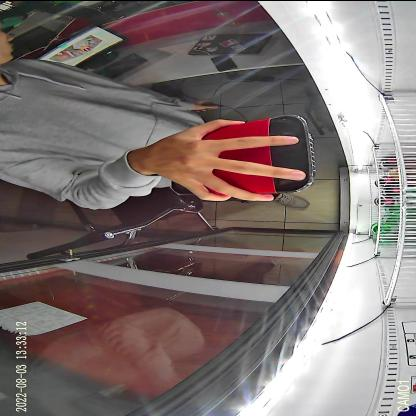red: (171, 113, 317, 194)
